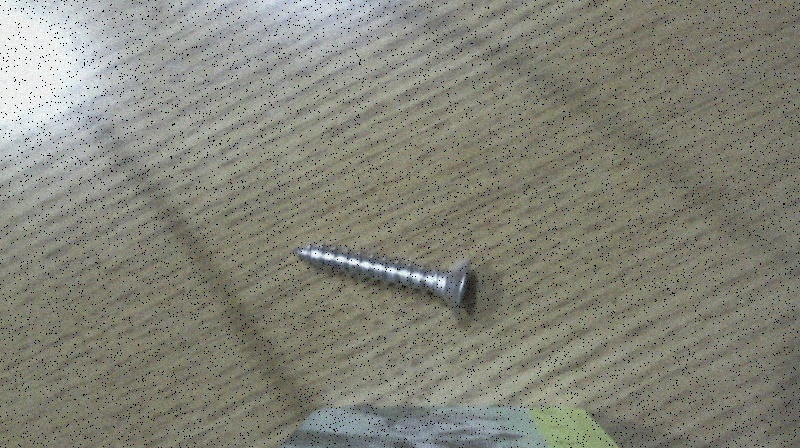S001: (291, 241, 476, 314)
